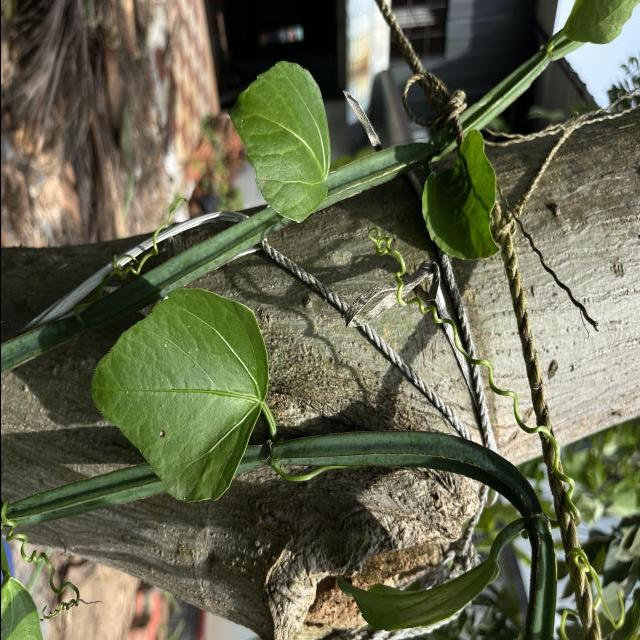Cissus quadrangularis: (87, 286, 271, 507), (224, 58, 334, 226)
